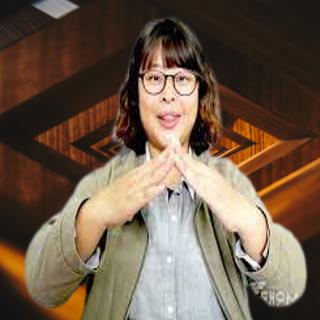HOME: (97, 135, 249, 236)
